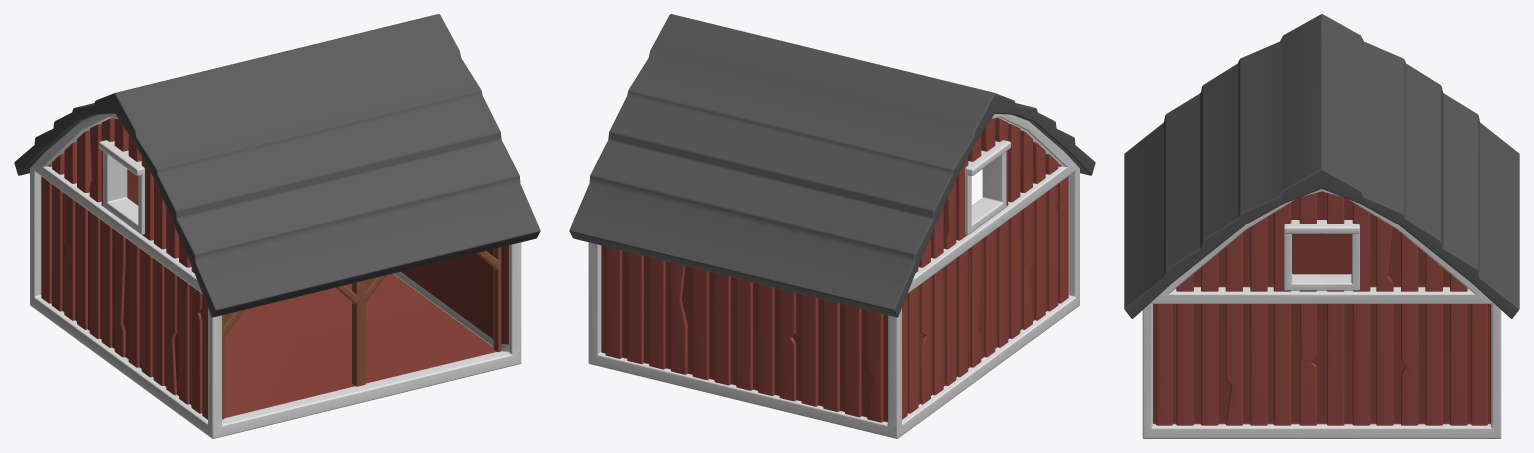
File: OpenBarn.glb
3 renders of one model, left to right at view 1: azimuth 30°, elevation 25°; view 2: azimuth 150°, elevation 25°; view 3: azimuth 270°, elevation 25°, orthographic. The views are drawn at different scales.
Parts seen in each view (by area): view 1: OpenBarn; view 2: OpenBarn; view 3: OpenBarn.
Boxes of the visible parts, x1,y1,x2,y2 form: OpenBarn: (14, 14, 540, 438); OpenBarn: (569, 14, 1095, 438); OpenBarn: (1124, 14, 1519, 438).
Bounding box in the file's own units: 5.74 × 4.74 × 6.17.
